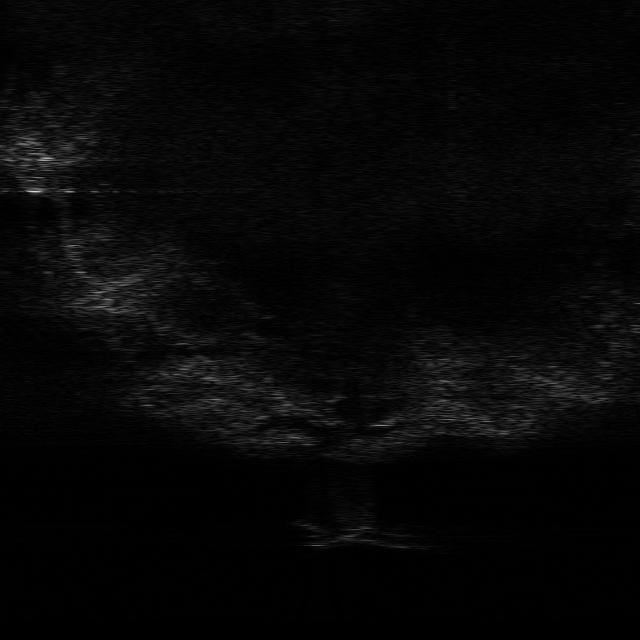plane: (296, 514, 428, 551)
